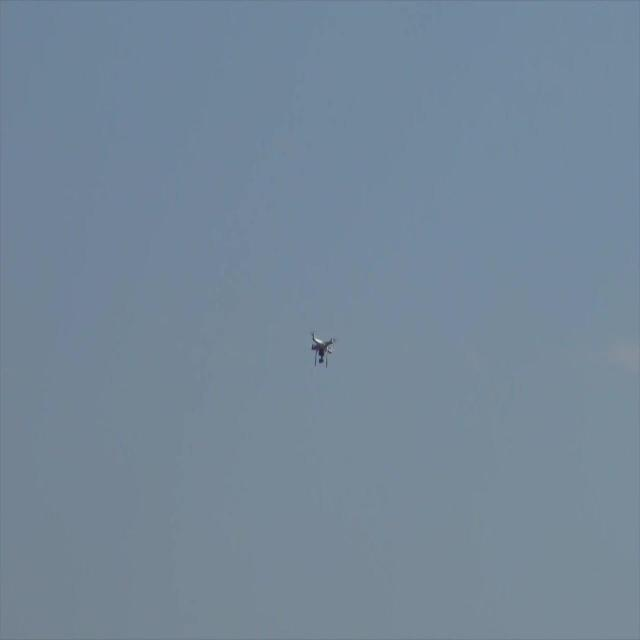UAV: (311, 332, 336, 369)
